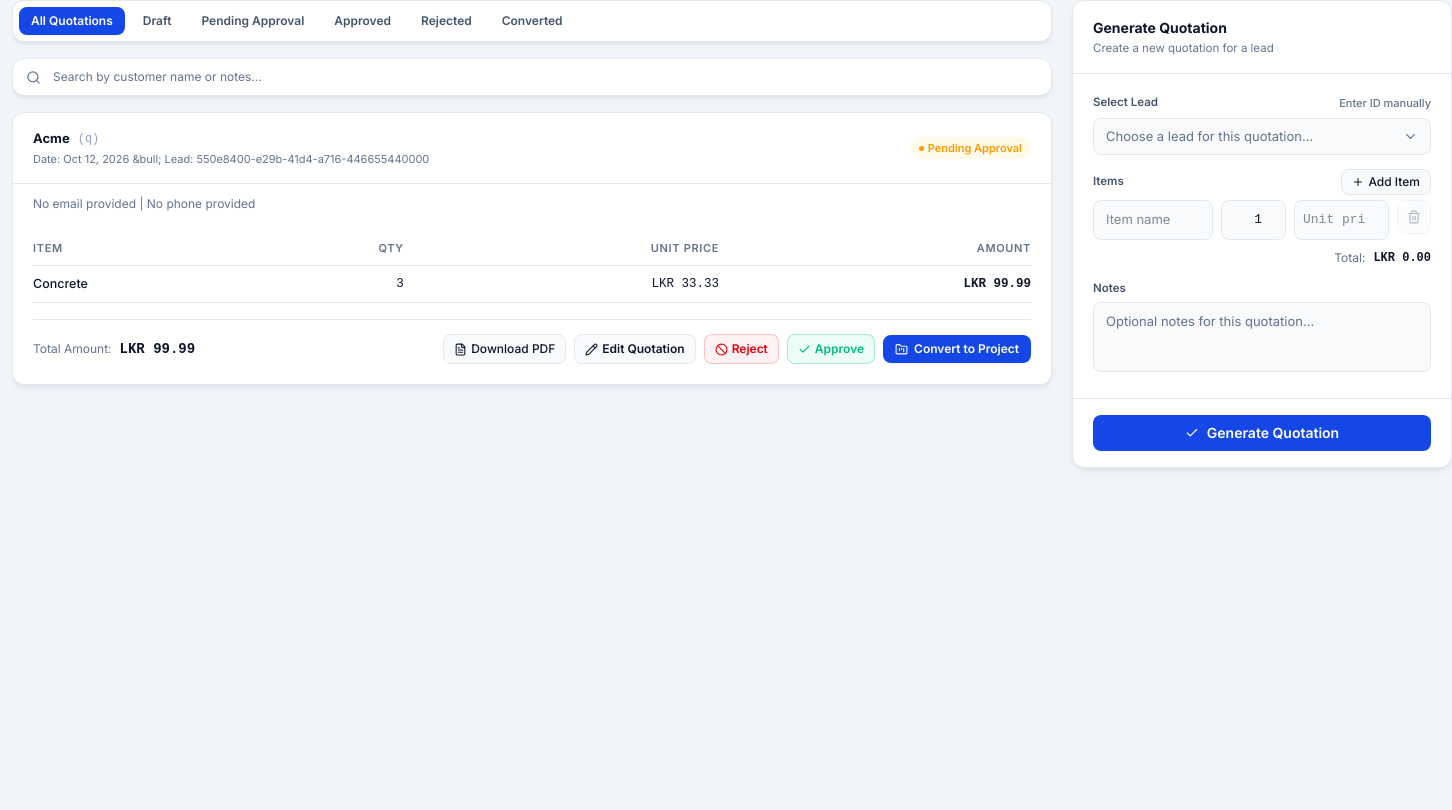
Scenario: Quotation dashboard interactions › explains popup blocking without making a PDF request
Expected: the text "Acme" is shown, [33,130,70,146]
Click the button with aria-label "Download or view PDF".
click(505, 349)  # box [443,334,566,364]
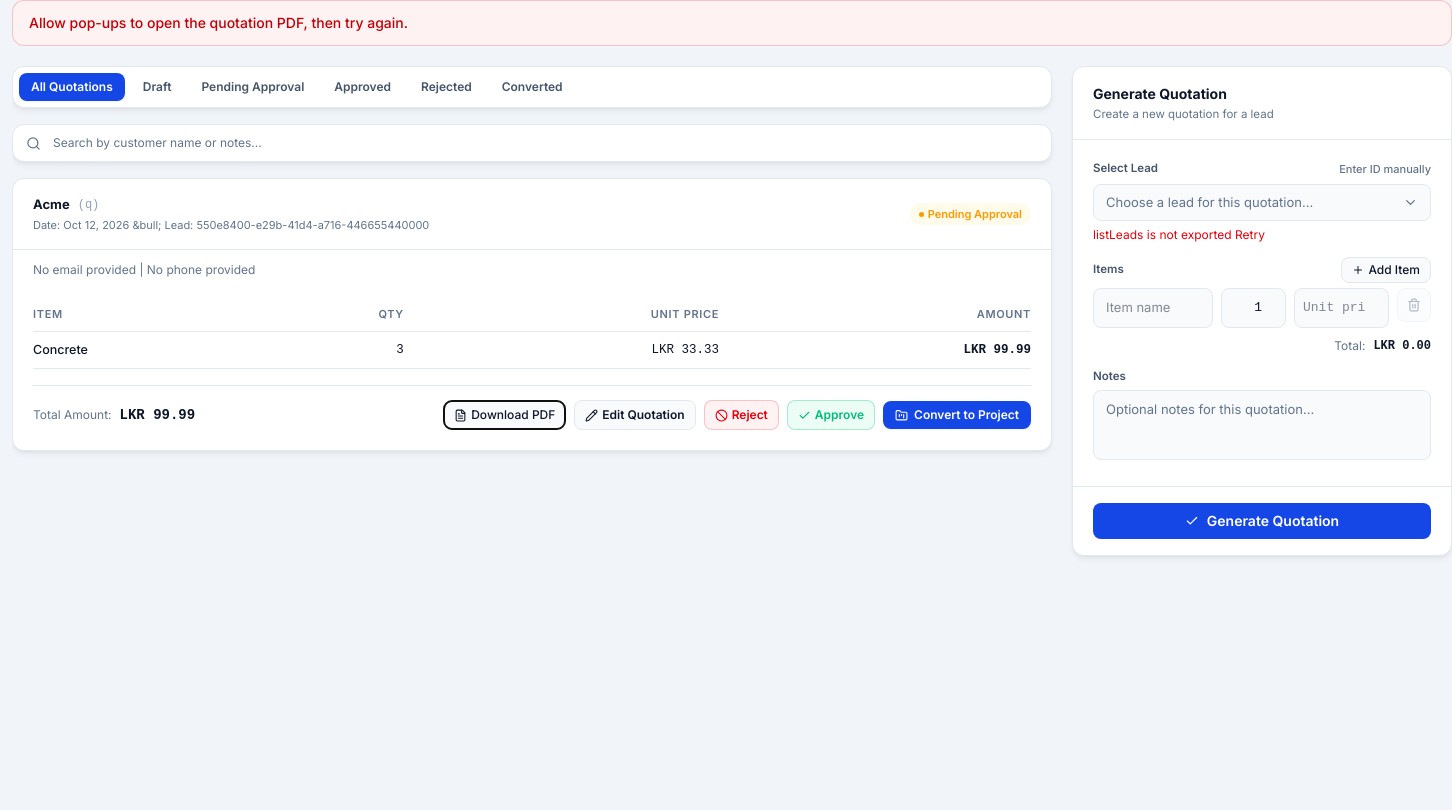
Expected: the text "Allow pop-ups to open the quotation PDF, then try again." is shown, [12,0,1451,46]
